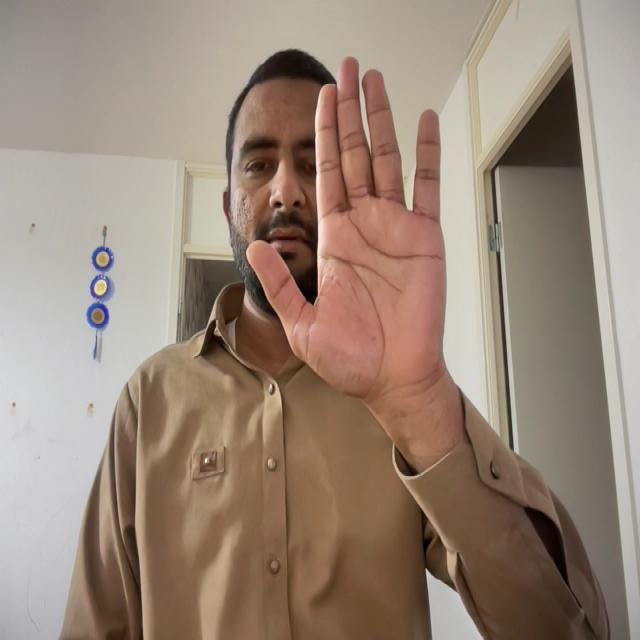Hello: (245, 51, 467, 404)
